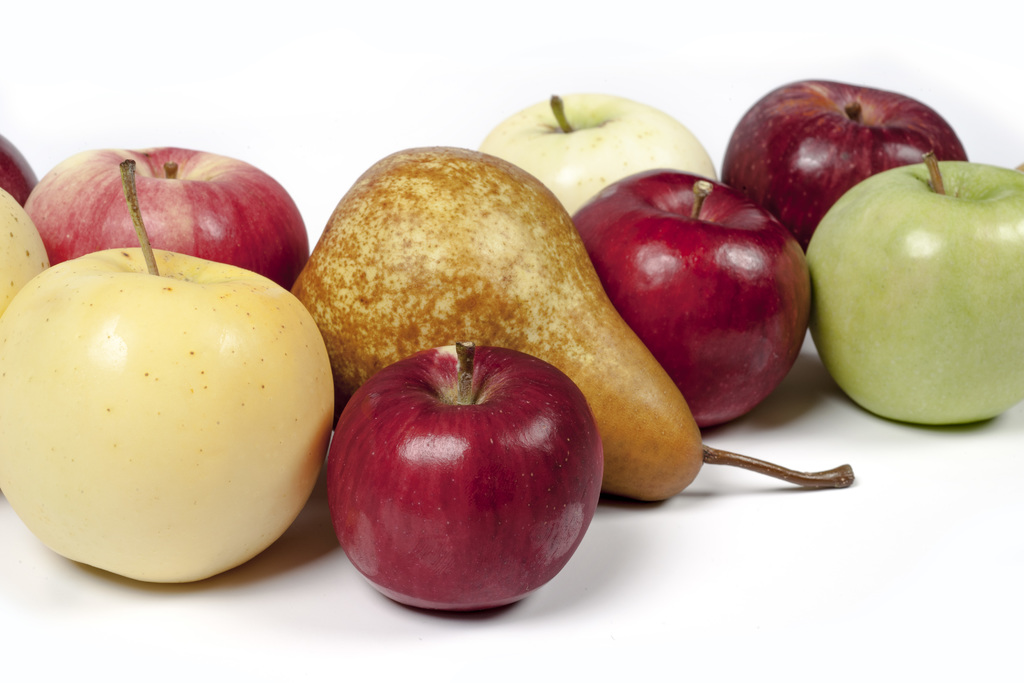Apple: (0, 153, 336, 589), (325, 338, 606, 614), (570, 166, 812, 424), (806, 146, 1023, 424), (19, 137, 309, 288), (721, 78, 968, 244), (478, 89, 717, 217), (0, 185, 50, 320), (0, 130, 40, 203)
